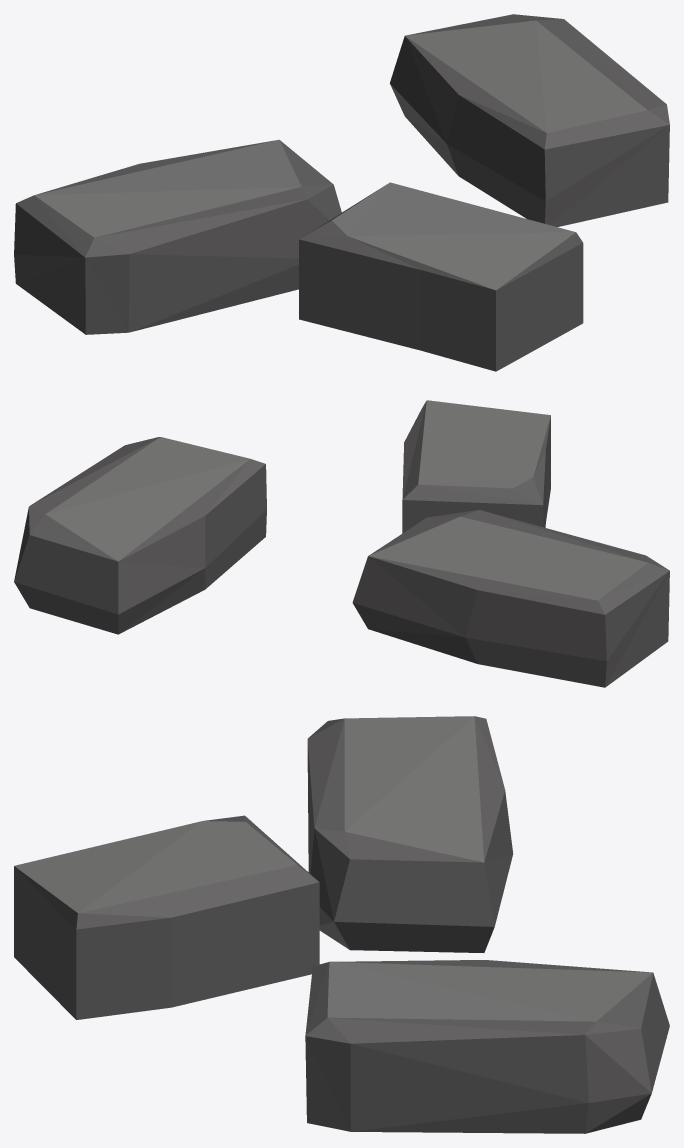
The model's file is SM_Prop_Bricks_04.glb.
3 views of the same model, one above another, from view 1: azimuth 30°, elevation 25°; view 2: azimuth 150°, elevation 25°; view 3: azimuth 270°, elevation 25° (orthographic). The views are drawn at different scales.
Visible parts, largest first — view 1: SM_Prop_Bricks_04; view 2: SM_Prop_Bricks_04; view 3: SM_Prop_Bricks_04.
Part boxes in pixels (<box>): SM_Prop_Bricks_04: <box>14,14,669,371</box>; SM_Prop_Bricks_04: <box>14,400,669,687</box>; SM_Prop_Bricks_04: <box>14,716,669,1133</box>.
Size of the model in its own units: 0.017 by 0.0025 by 0.0143.
Materials: 1 (1 with a texture image).
